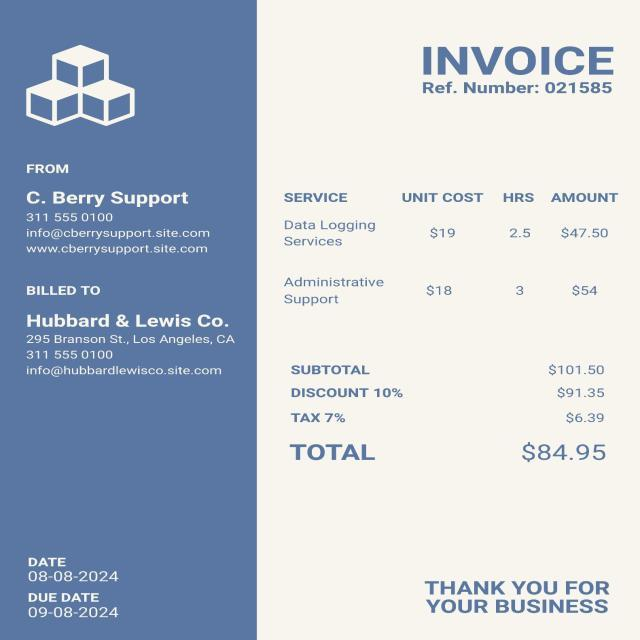ROI: (270, 184, 626, 310), (268, 350, 620, 429), (16, 278, 242, 389), (11, 157, 230, 264), (13, 22, 161, 136), (414, 567, 616, 622), (408, 35, 622, 77), (276, 440, 618, 466), (413, 80, 622, 100), (19, 590, 130, 624), (16, 554, 132, 584)
